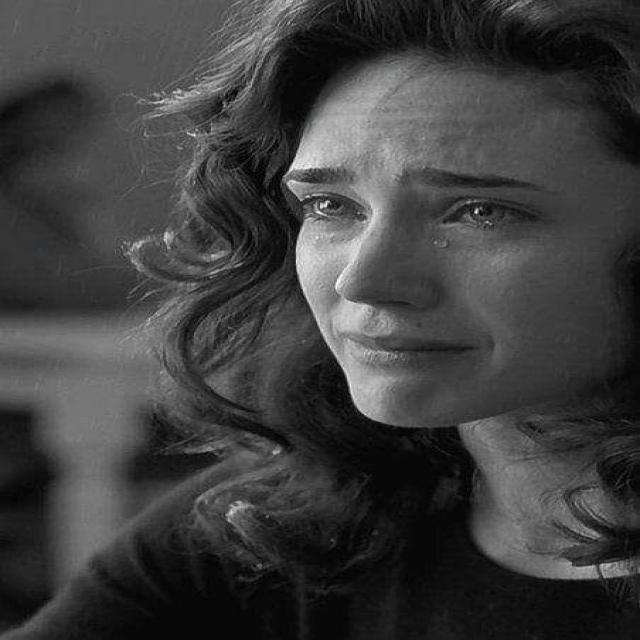sad: (258, 49, 602, 426)
